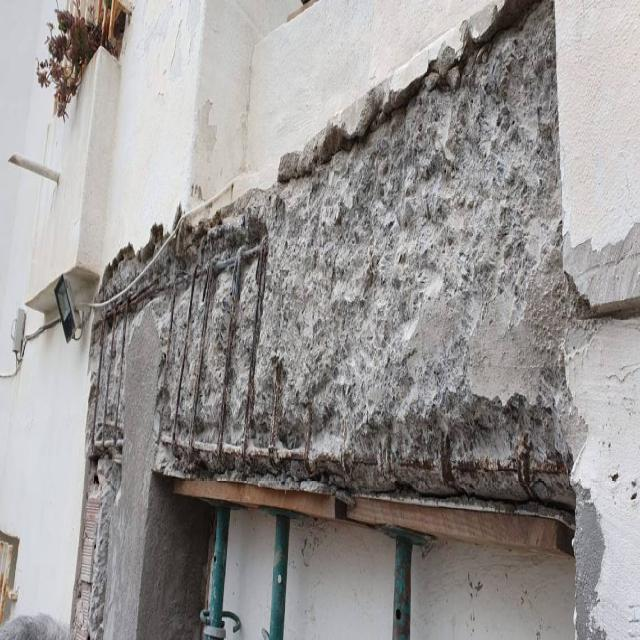Spalling: (82, 0, 639, 639)
corrosion: (161, 436, 560, 474), (93, 245, 265, 327), (238, 240, 268, 475)
